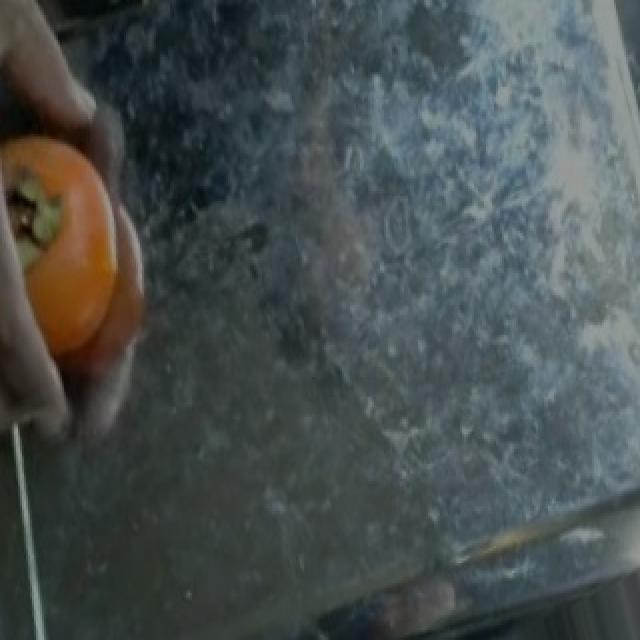Fruit: (2, 111, 148, 406), (292, 566, 478, 638)
